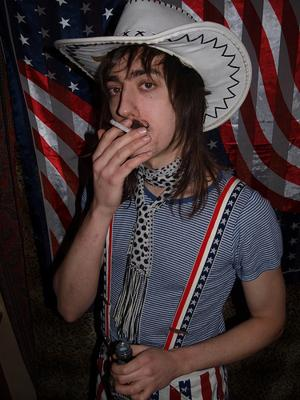person: (53, 3, 286, 398)
